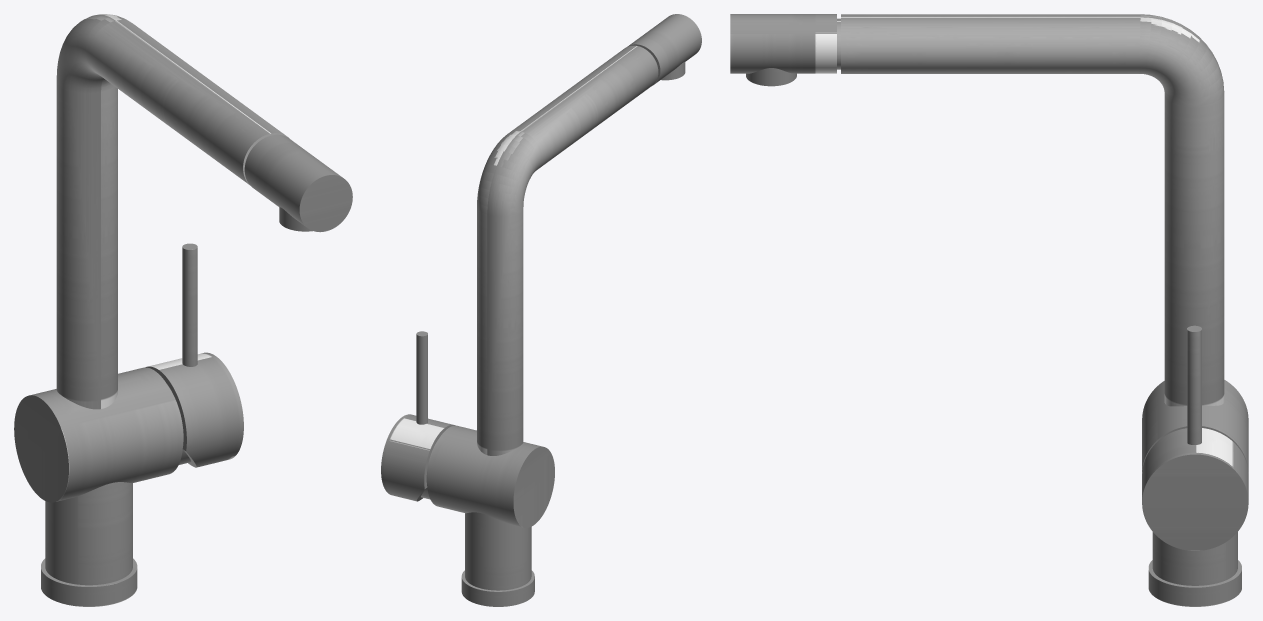
Rendered from kitchen_tap_straight.glb.
3 views of the same model, side by side, from view 1: azimuth 30°, elevation 25°; view 2: azimuth 150°, elevation 25°; view 3: azimuth 270°, elevation 25° (orthographic). The views are drawn at different scales.
Visible parts, largest first — view 1: Geom3D_ (×5), Geom3D_Difference; view 2: Geom3D_ (×5), Geom3D_Difference; view 3: Geom3D_ (×6), Geom3D_Difference.
Boxes of the visible parts, x1,y1,x2,y2 form: Geom3D_ (×5): (14, 14, 352, 606); Geom3D_Difference: (146, 352, 243, 467); Geom3D_ (×5): (416, 14, 701, 606); Geom3D_Difference: (381, 414, 455, 501); Geom3D_ (×6): (730, 14, 1248, 606); Geom3D_Difference: (1142, 428, 1248, 550).
Size of the model in its own units: 0.092 by 0.295 by 0.2434.
1 material, 1 textured.
